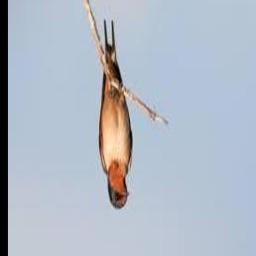Swallow: (99, 21, 132, 209)
